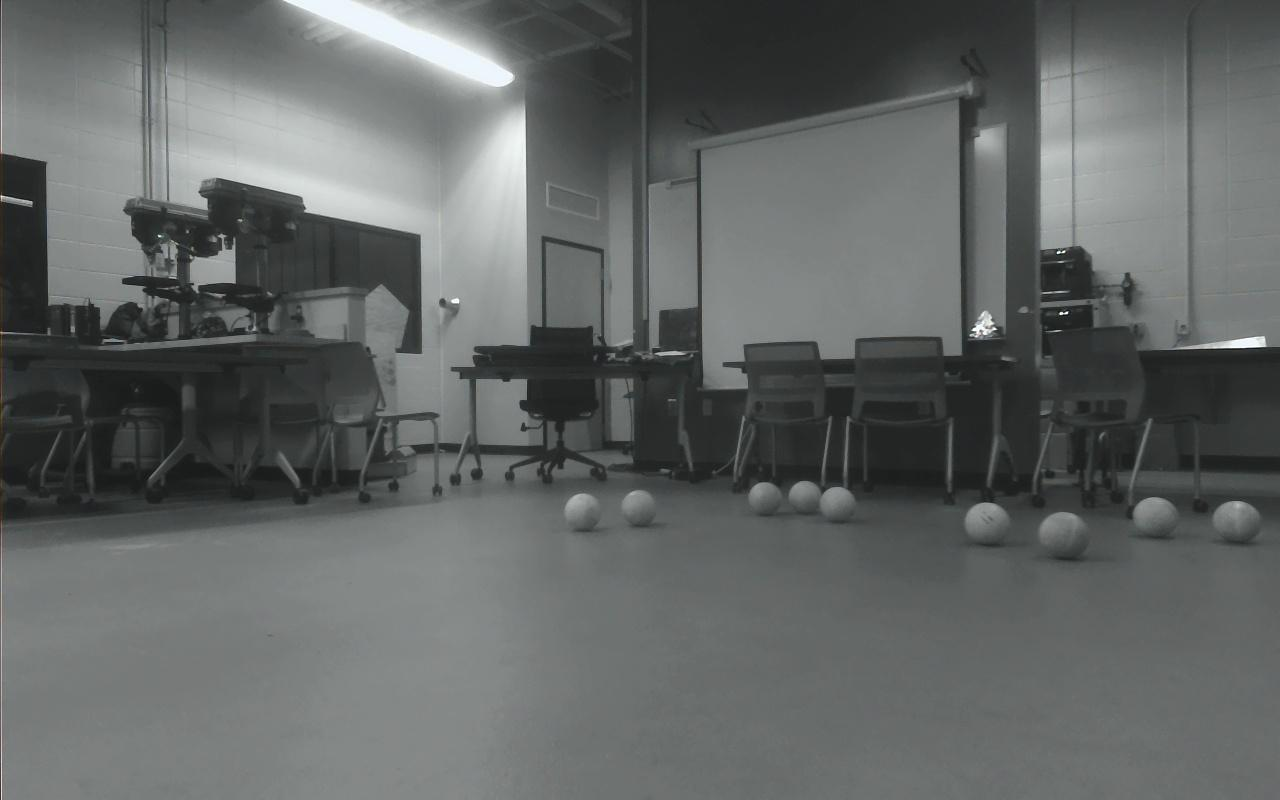Fuel: (1038, 512, 1089, 560), (1212, 500, 1262, 544), (964, 502, 1010, 546), (1132, 497, 1180, 538), (564, 494, 602, 532), (818, 486, 856, 523), (621, 490, 657, 527), (748, 482, 783, 516), (788, 481, 822, 514)
